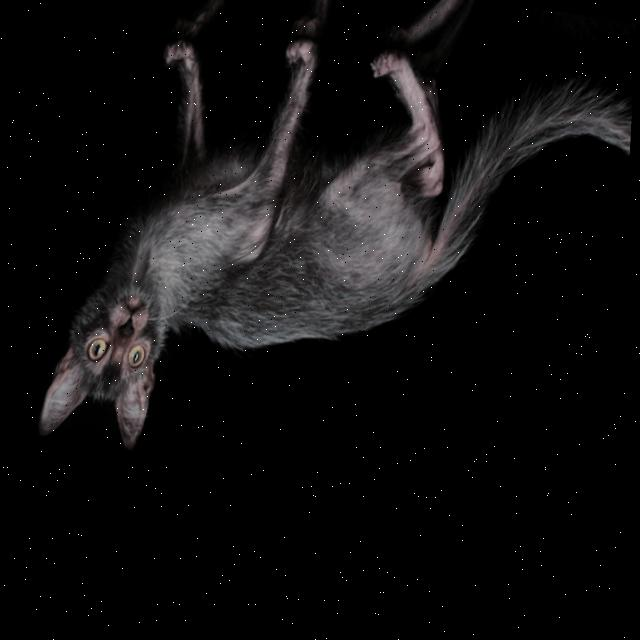Lykoi: (24, 0, 640, 566)
